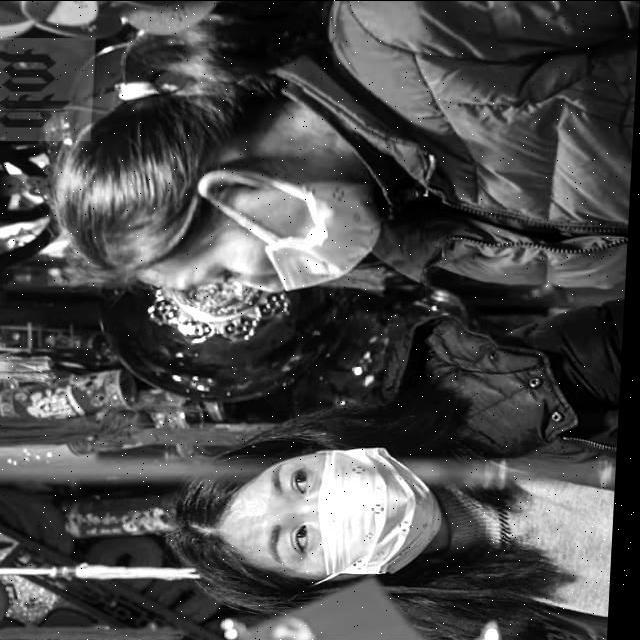mask: (236, 158, 370, 288), (330, 432, 404, 584)
